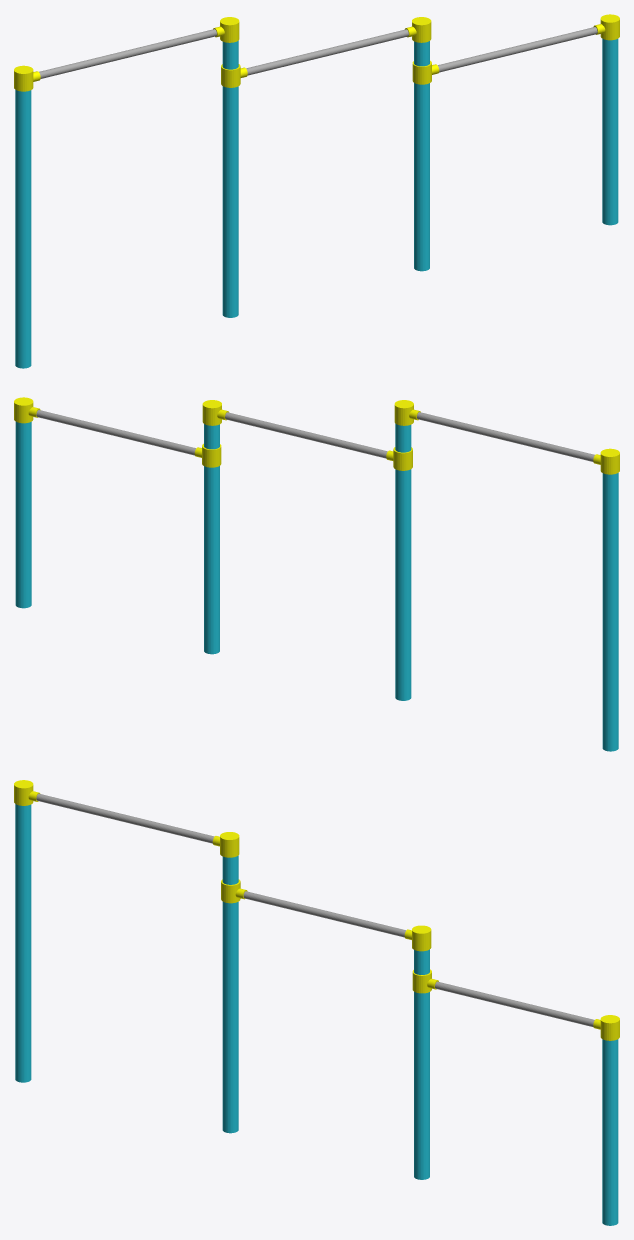
Rendered from pull up bar.fbx.
The picture shows the model from 3 angles, top to bottom: view 1: azimuth 30°, elevation 25°; view 2: azimuth 150°, elevation 25°; view 3: azimuth 330°, elevation 25°; orthographic projection.
Visible parts, largest first — view 1: Cylinder.012; view 2: Cylinder.012; view 3: Cylinder.012.
Part boxes in pixels (x1,y1,x2,y2): Cylinder.012: (14, 14, 619, 368); Cylinder.012: (14, 397, 619, 751); Cylinder.012: (14, 780, 619, 1225).
Bounding box in the file's own units: 1236 × 578 × 34.51.
